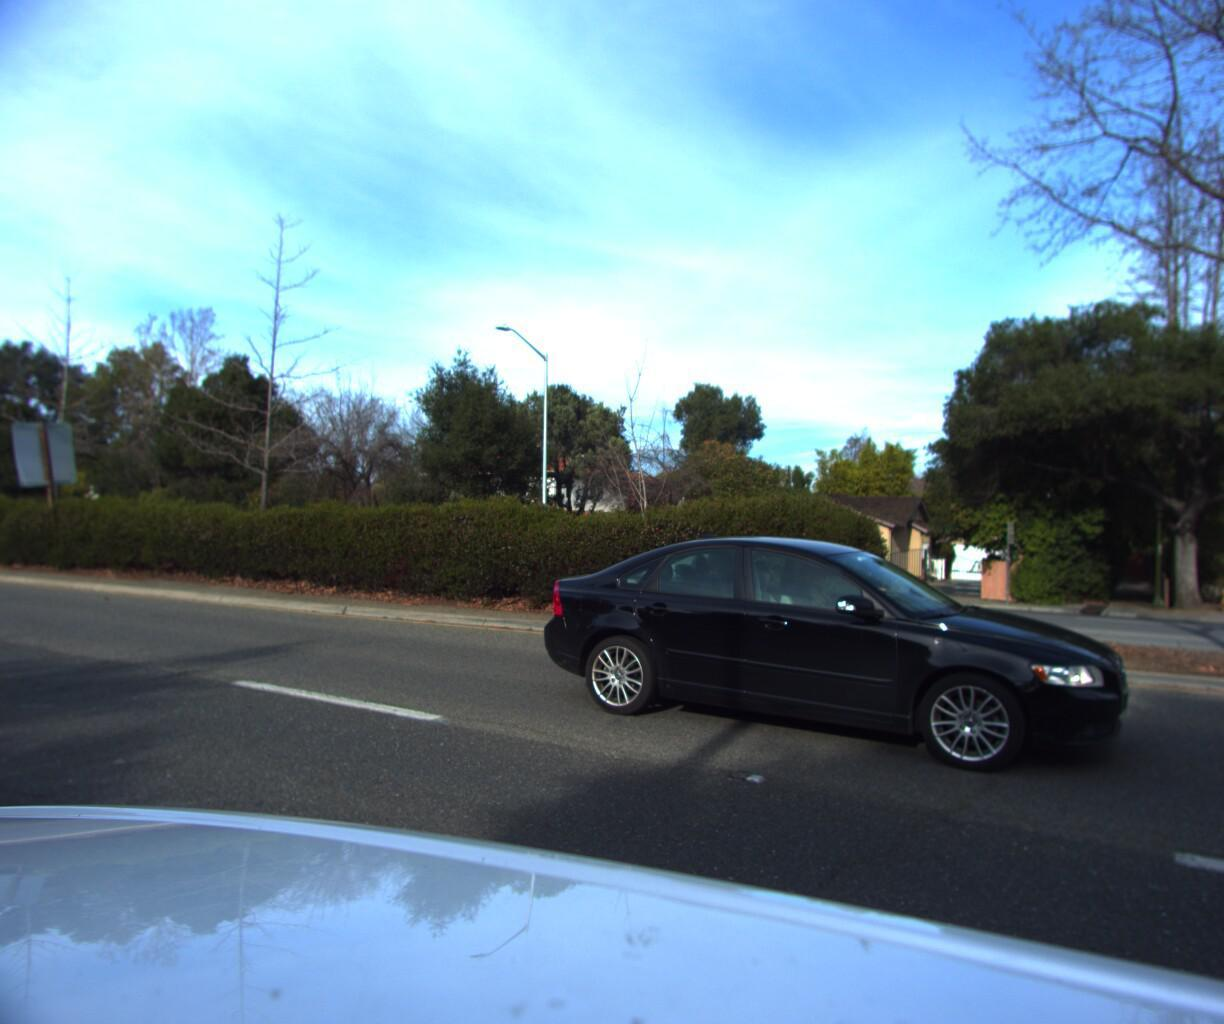car: (528, 517, 1123, 781)
